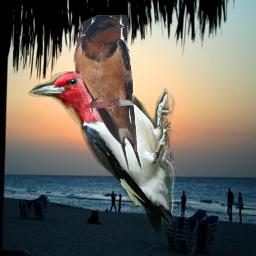Swallow: (73, 15, 143, 172)
Woodpecker: (27, 71, 181, 233)
